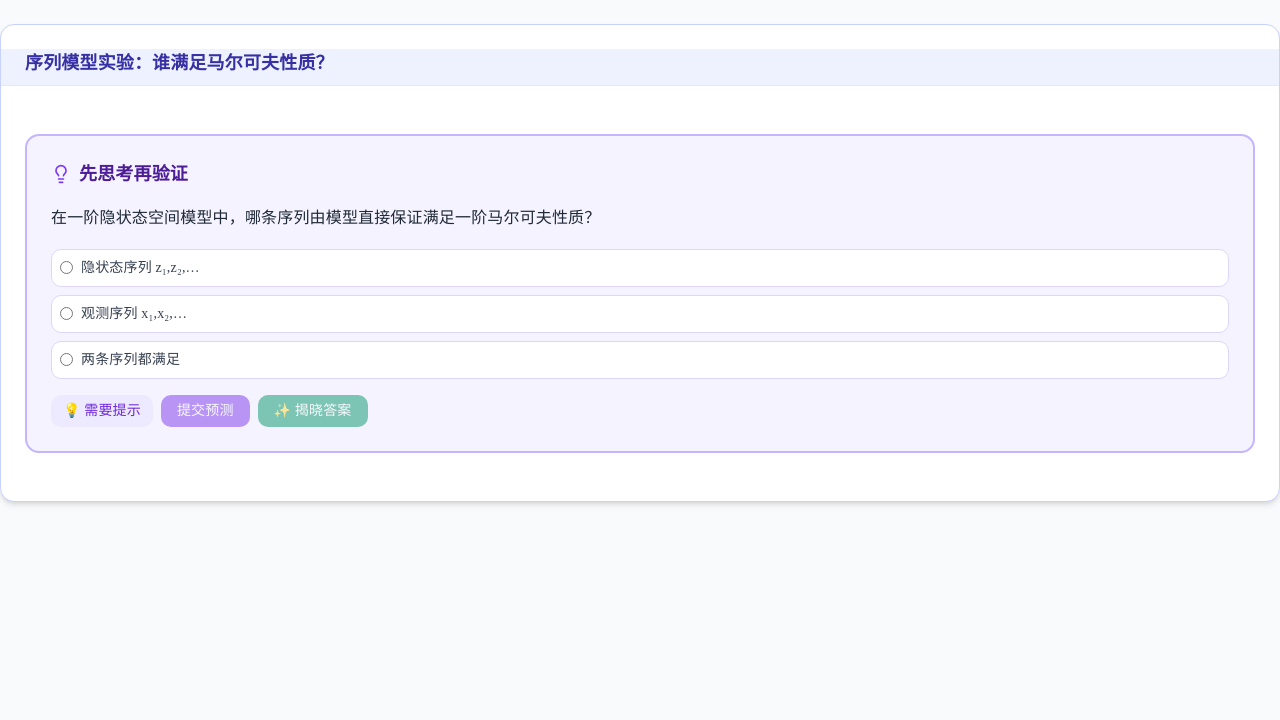
it: chapter 8 teaching-ready learning loop › gates the hidden-state filtering experiment until a prediction is submitted
Click the radio button labelled "隐状态序列 z₁,z₂,…": (66, 268) x1=60 y1=261 x2=73 y2=274
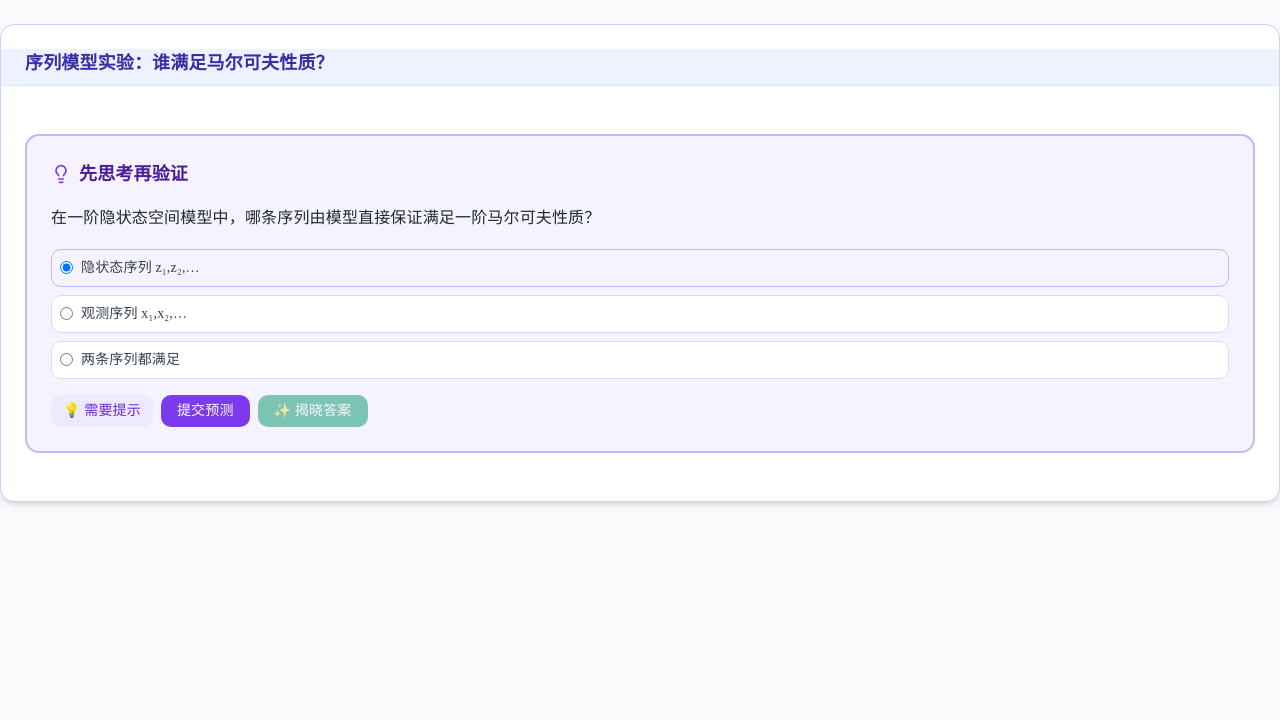
Click the button "提交预测": (205, 411) x1=161 y1=395 x2=250 y2=427
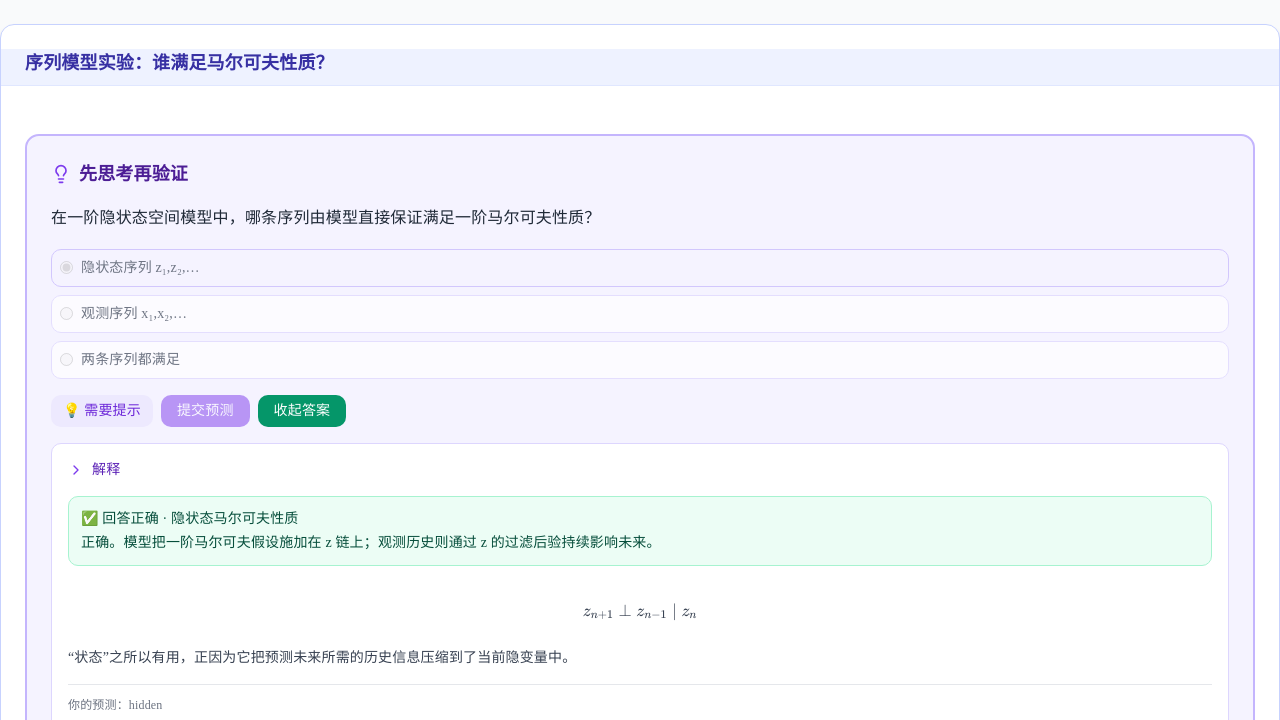
Expected: the text "✅ 回答正确 · 隐状态马尔可夫性质" is shown, x1=81 y1=511 x2=298 y2=526
